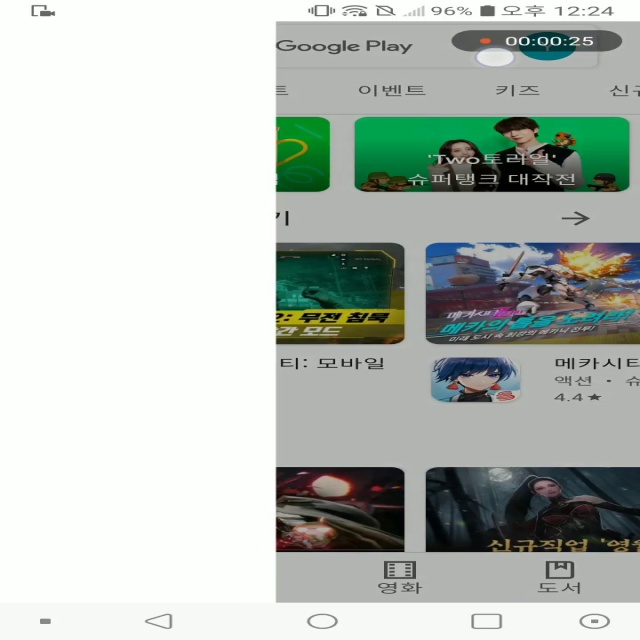Cursor: (473, 47, 518, 69)
